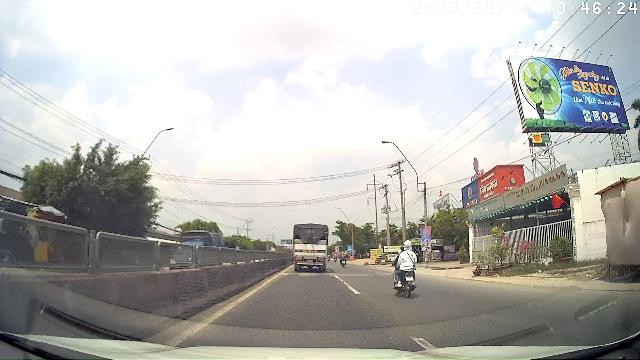423a-duong-nguoi-di-bo-sang-ngang-1: (348, 246, 352, 250)
